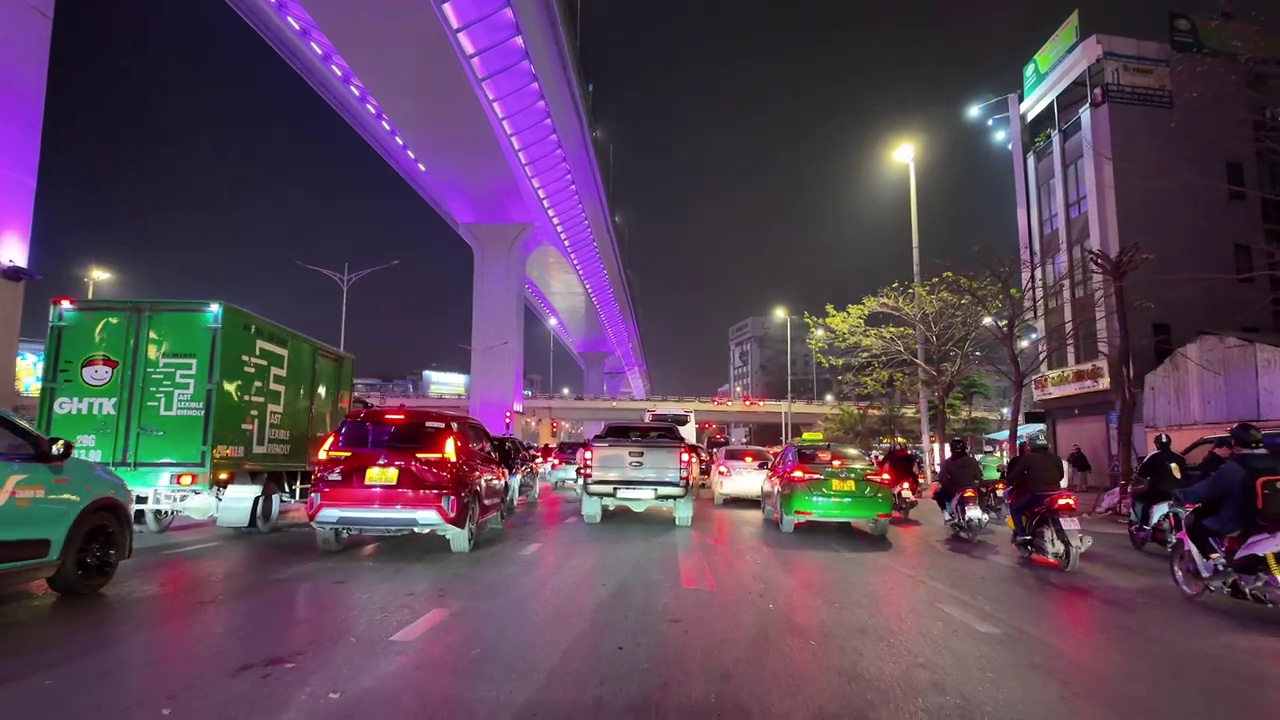acesa: (882, 136, 919, 176), (85, 263, 118, 291), (767, 302, 791, 327)
